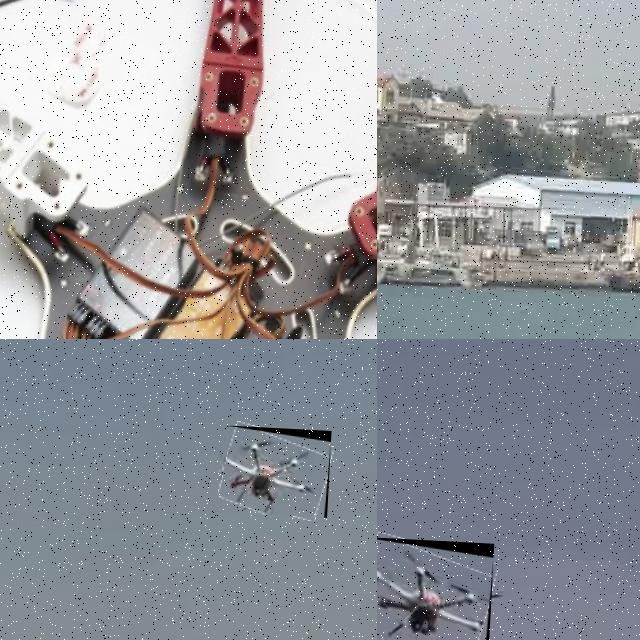0: (377, 536, 494, 640), (221, 426, 332, 518)
drone: (0, 0, 377, 339)
